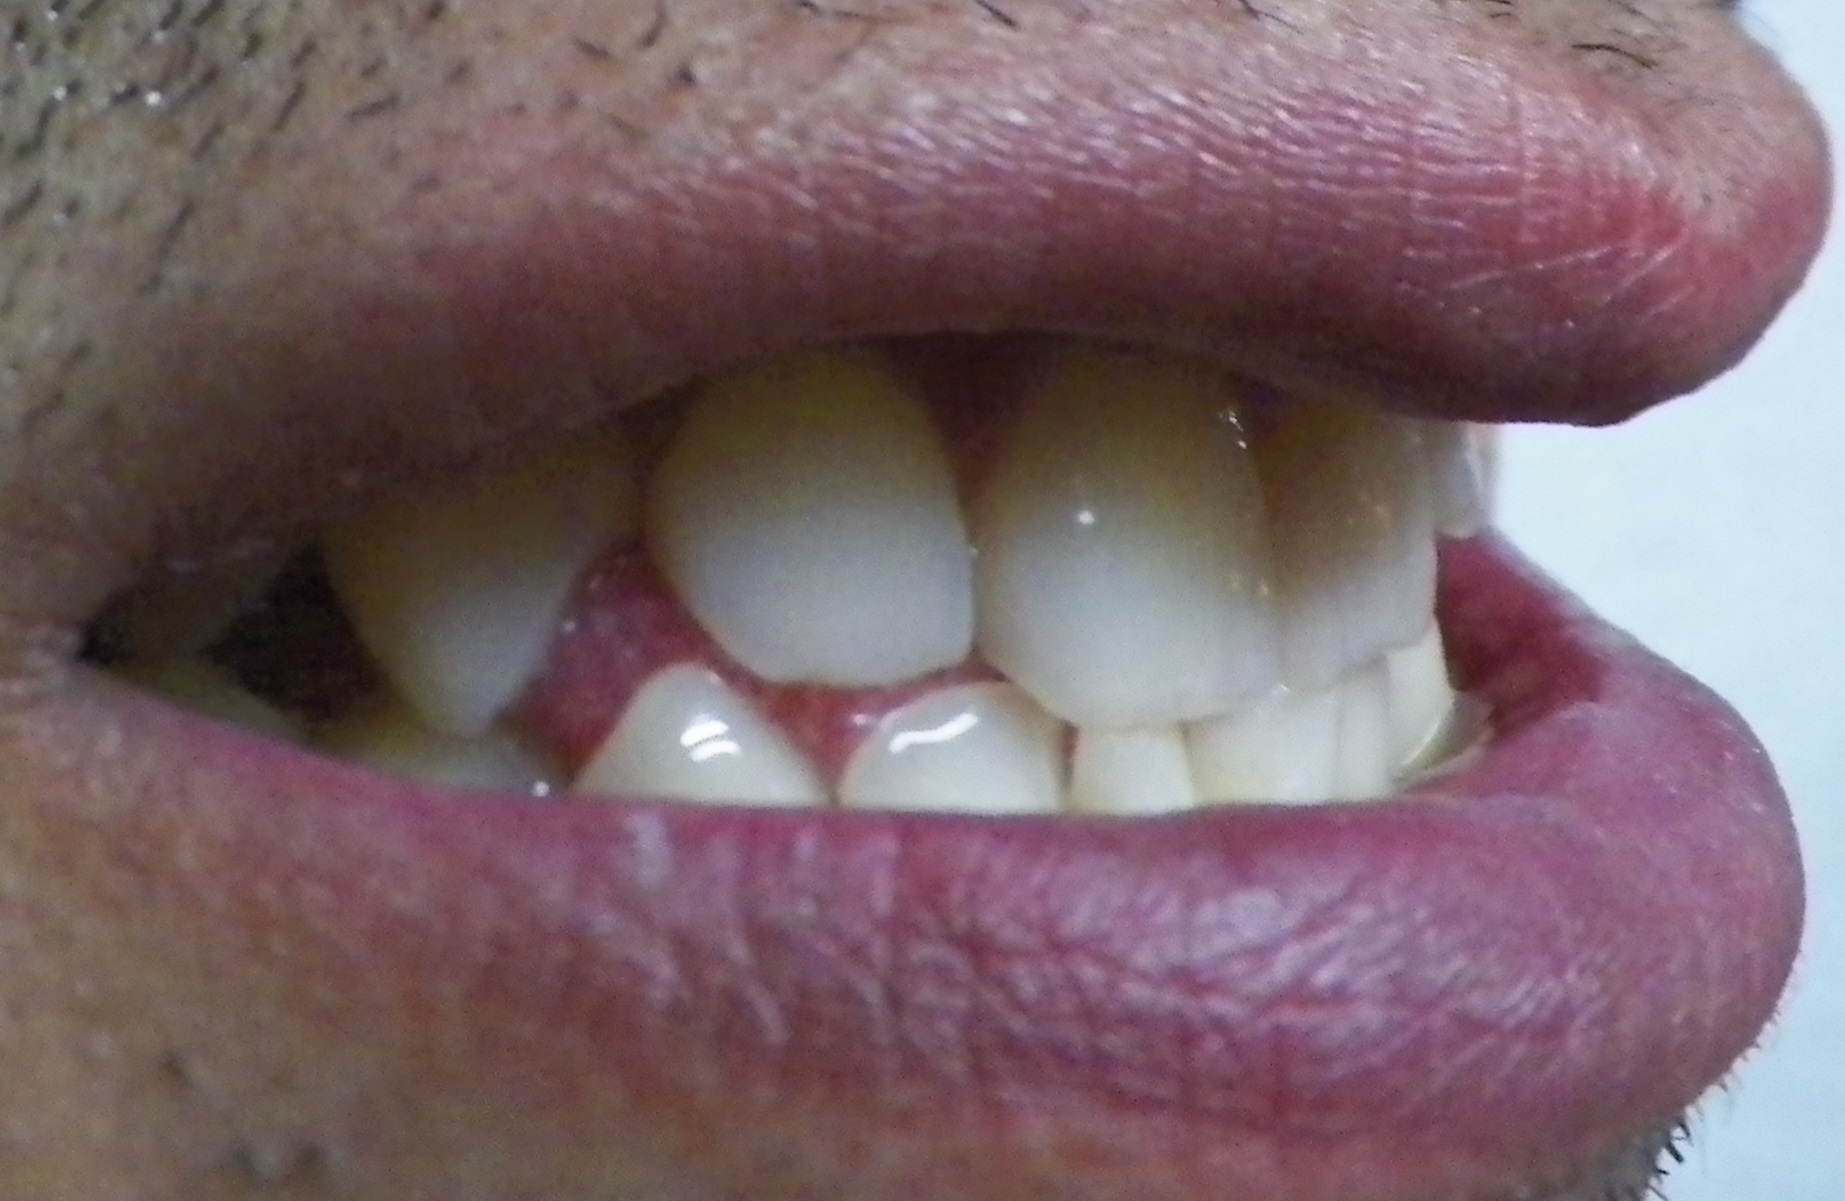boca: (342, 395, 1517, 810)
